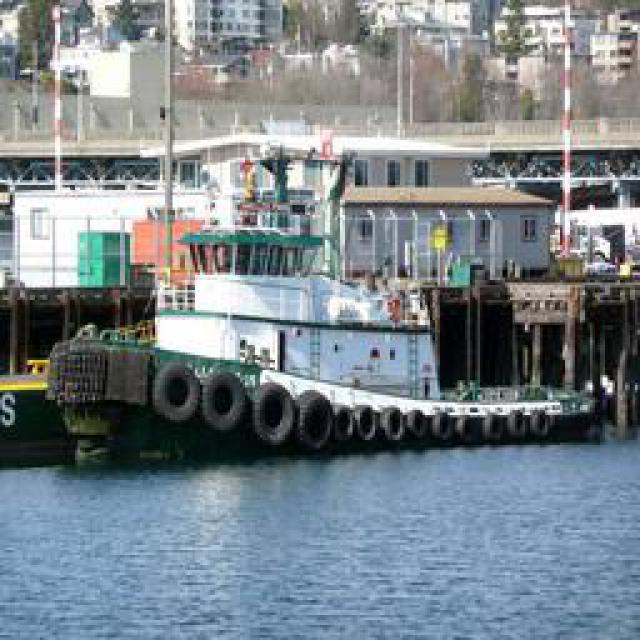Ship: (21, 56, 596, 466)
